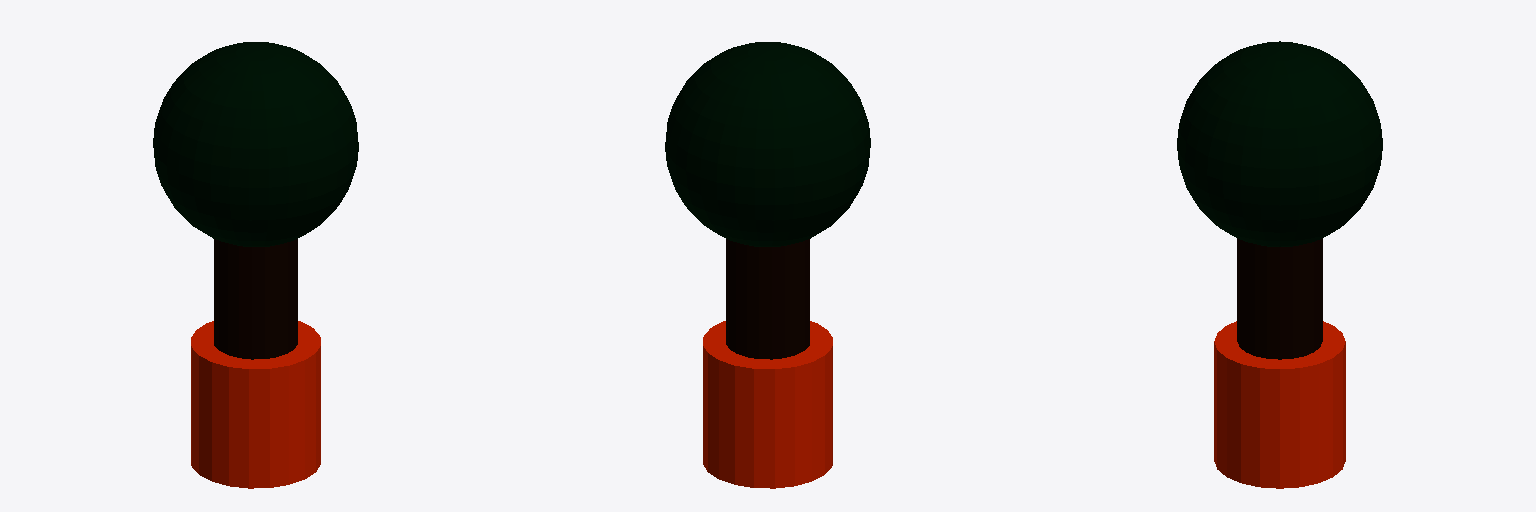
The model's file is Plant.obj.
3 views of the same model, side by side, from view 1: azimuth 30°, elevation 25°; view 2: azimuth 150°, elevation 25°; view 3: azimuth 270°, elevation 25° (orthographic).
Parts seen in each view (by area): view 1: Sphere, Cylinder.001_Cylinder.002, Cylinder.002_Cylinder.003; view 2: Sphere, Cylinder.001_Cylinder.002, Cylinder.002_Cylinder.003; view 3: Sphere, Cylinder.001_Cylinder.002, Cylinder.002_Cylinder.003.
Boxes of the visible parts, <box> form: Sphere: <box>153,42,358,246</box>; Cylinder.001_Cylinder.002: <box>191,321,320,488</box>; Cylinder.002_Cylinder.003: <box>214,239,297,359</box>; Sphere: <box>665,42,870,246</box>; Cylinder.001_Cylinder.002: <box>703,321,832,488</box>; Cylinder.002_Cylinder.003: <box>726,239,809,359</box>; Sphere: <box>1177,41,1382,246</box>; Cylinder.001_Cylinder.002: <box>1214,321,1345,488</box>; Cylinder.002_Cylinder.003: <box>1237,238,1322,359</box>.
Bounding box in the file's own units: 3.14 × 6.87 × 3.14.